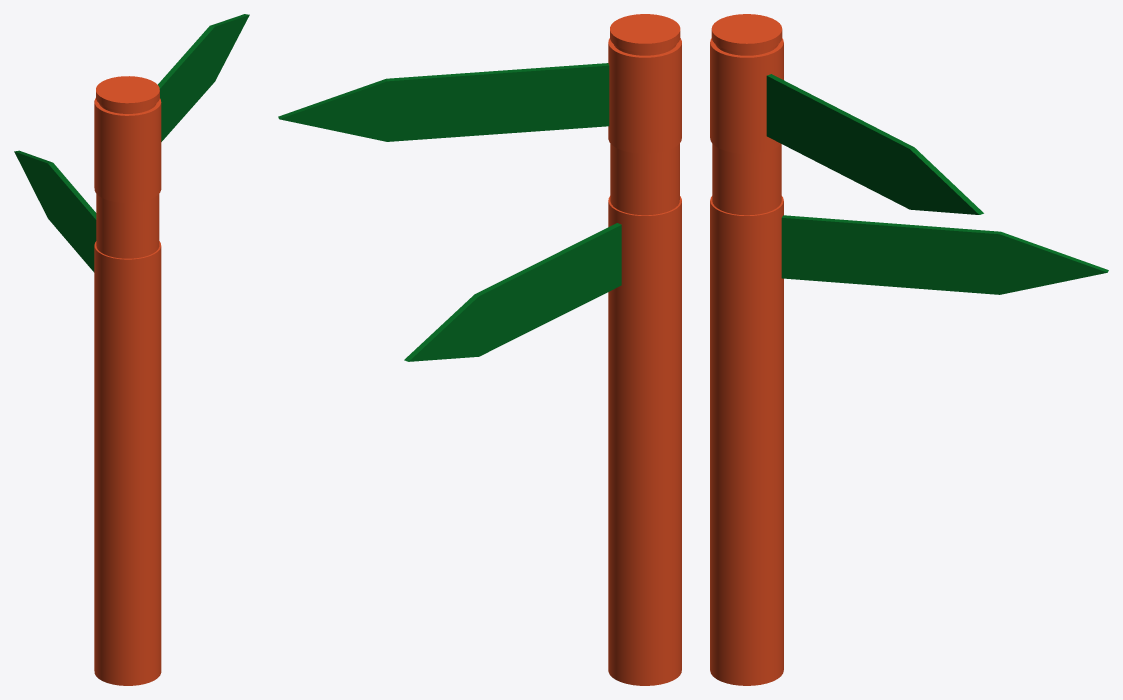
The model's file is sign.fbx.
3 renders of one model, left to right at view 1: azimuth 30°, elevation 25°; view 2: azimuth 150°, elevation 25°; view 3: azimuth 270°, elevation 25°, orthographic. The views are drawn at different scales.
Visible parts, largest first — view 1: Cylinder.005, Plane.008, Plane.009; view 2: Cylinder.005, Plane.008, Plane.009; view 3: Cylinder.005, Plane.009, Plane.008.
Part boxes in pixels (x1,y1,x2,y2): Cylinder.005: [94, 76, 161, 685]; Plane.008: [158, 14, 249, 141]; Plane.009: [14, 150, 96, 272]; Cylinder.005: [608, 14, 681, 685]; Plane.008: [278, 63, 609, 141]; Plane.009: [404, 223, 621, 361]; Cylinder.005: [710, 14, 783, 685]; Plane.009: [781, 215, 1108, 294]; Plane.008: [766, 74, 983, 214].
Bounding box in the file's own units: 403 × 874 × 493.
